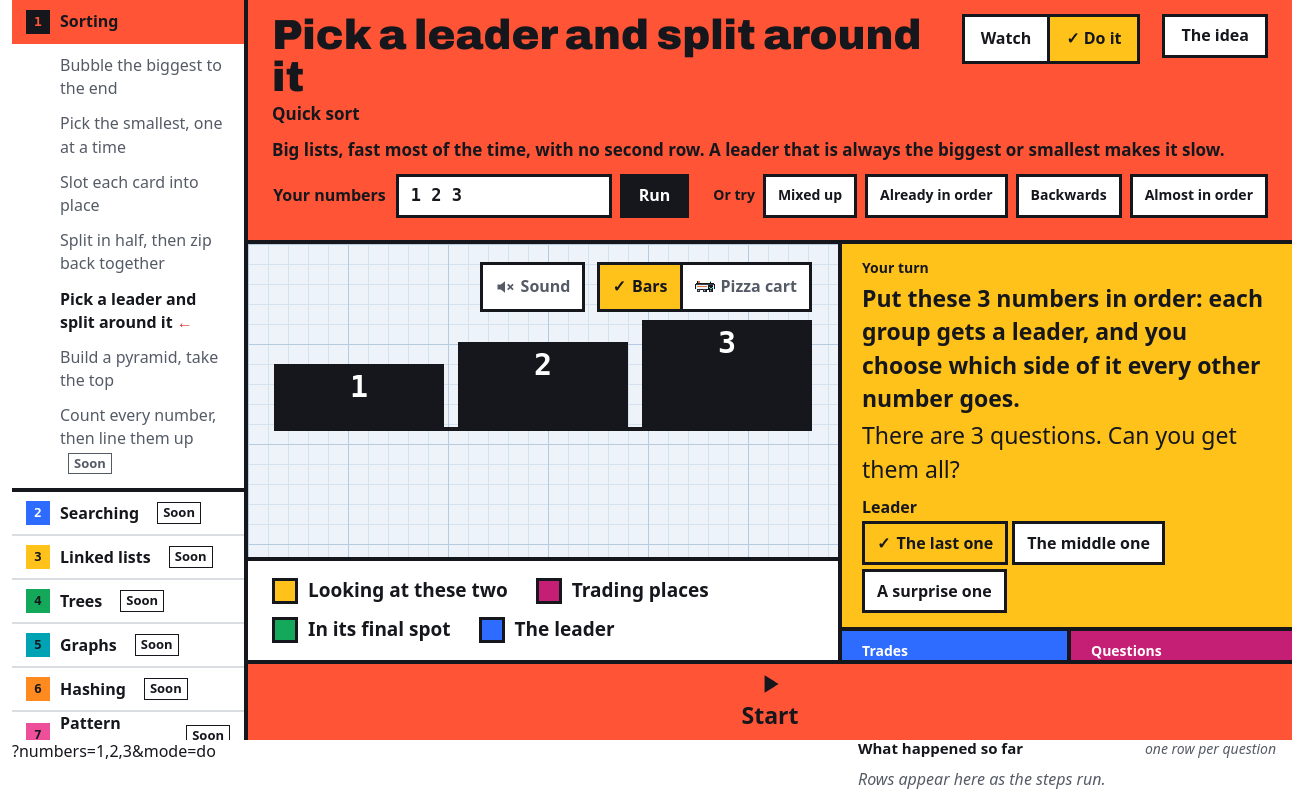
Test: quick sort: picking the leader › Do it: Start hides the choice; the finish compares the rules, never a grade
The width and height of the screenshot is (1304, 800).
Click the button "Start".
click(770, 702)  # box [248,664,1292,740]
Wait 4000 ms
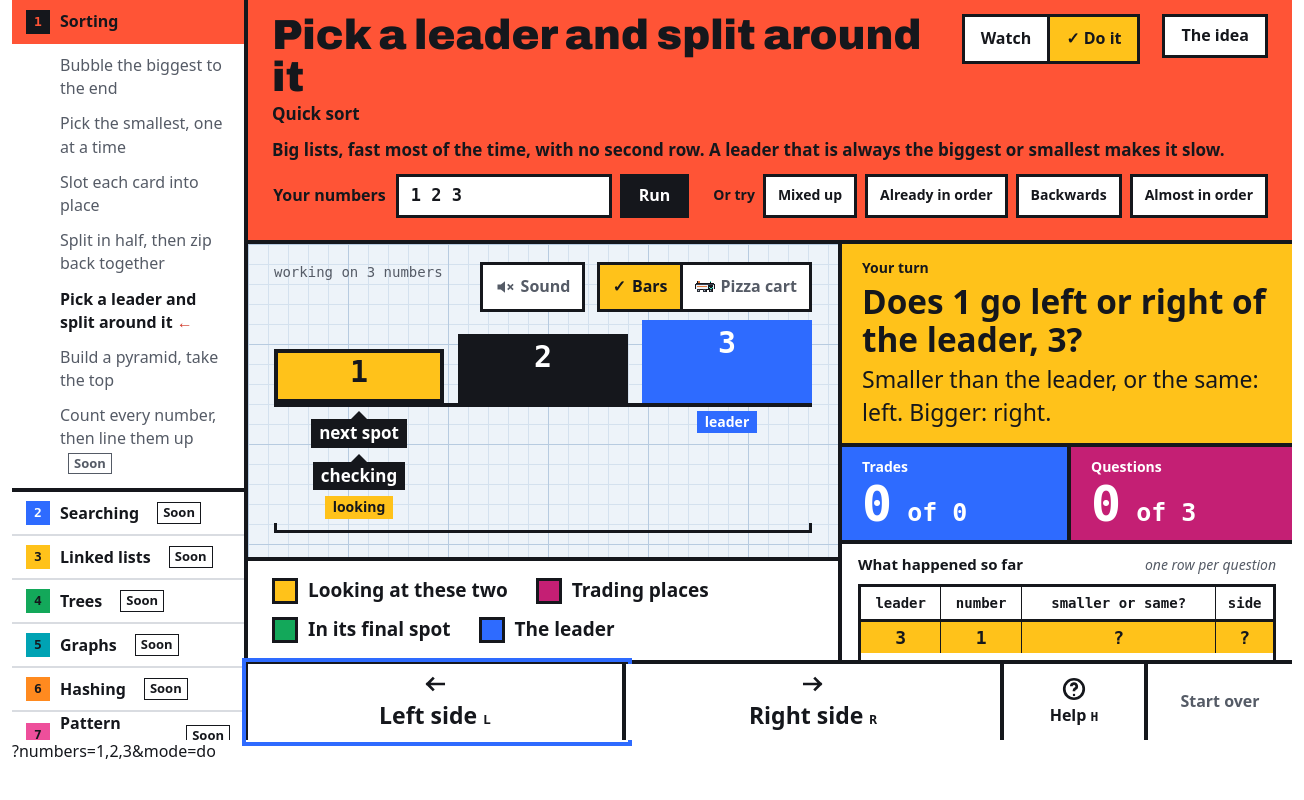
Type keys "l"
Wait 2000 ms
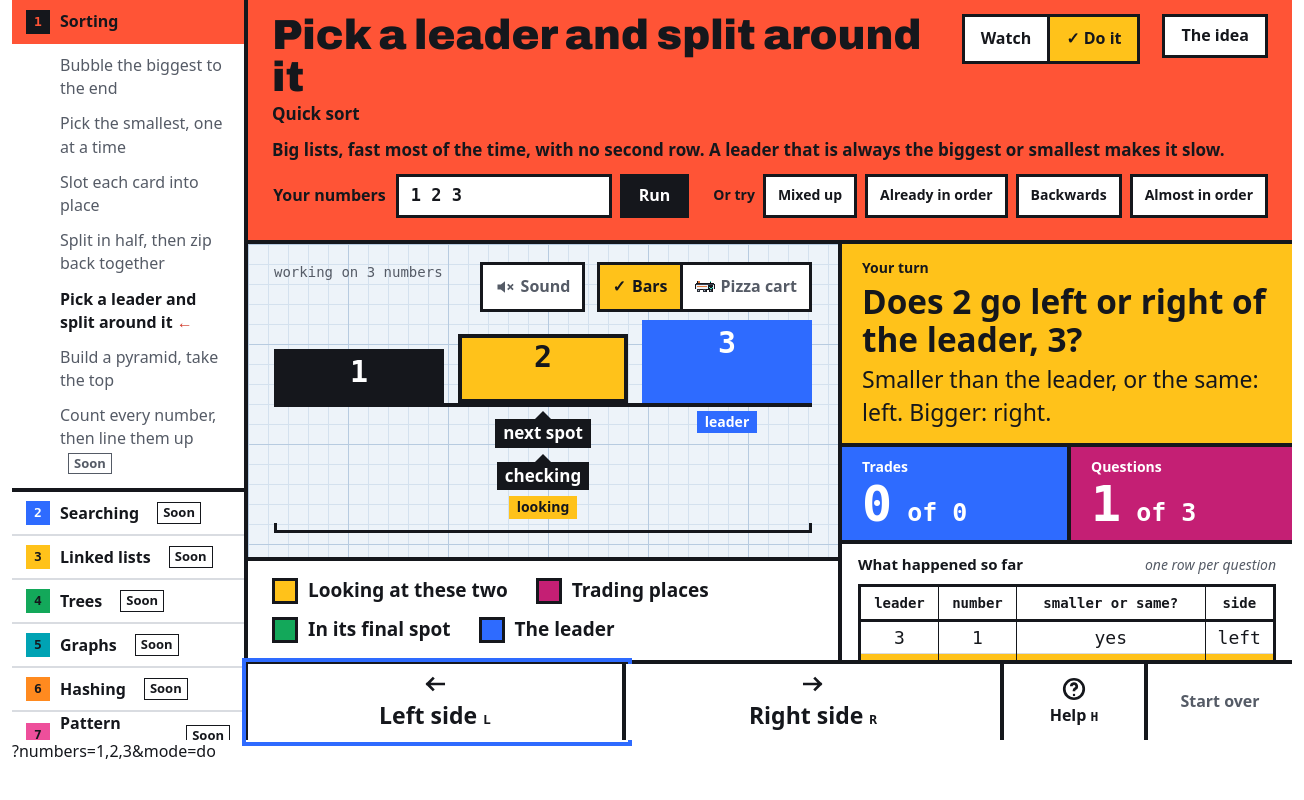
Type keys "l"
Wait 6000 ms
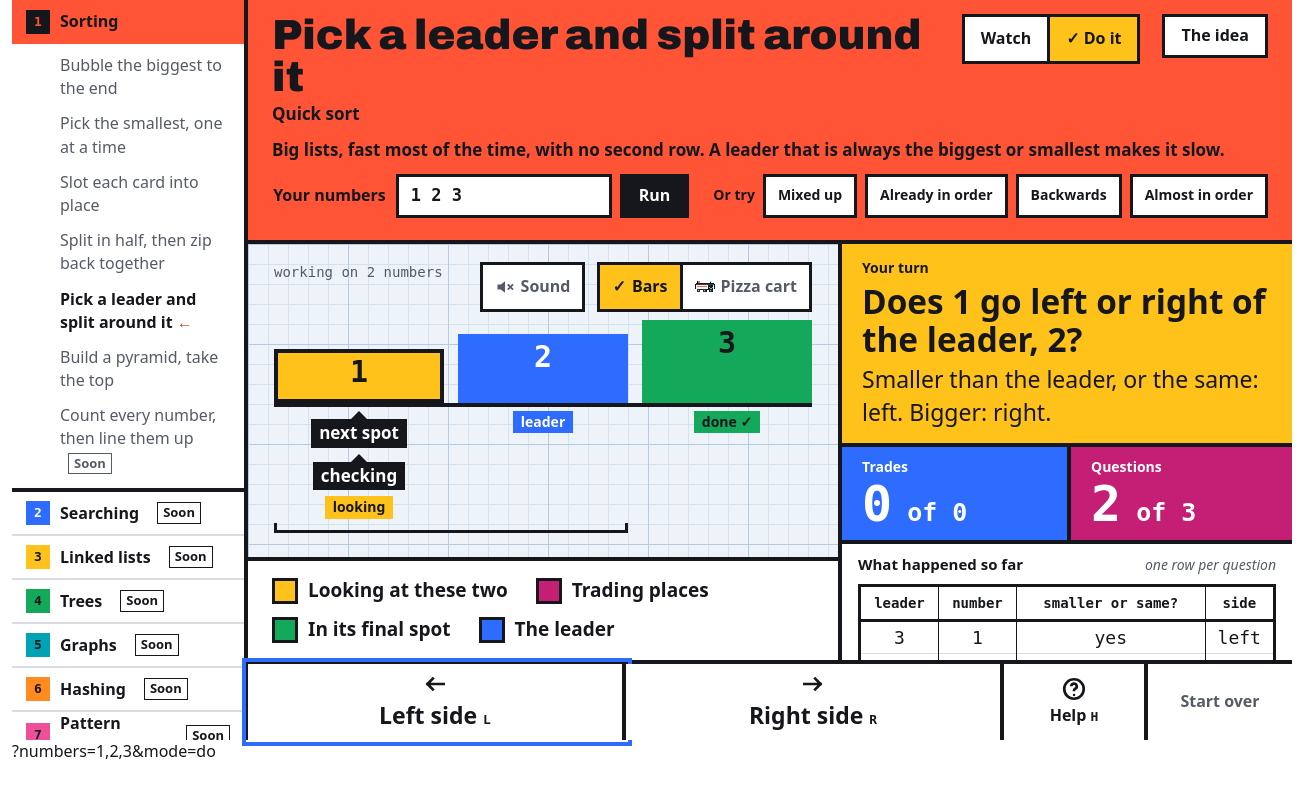
Type keys "l"
Wait 6000 ms
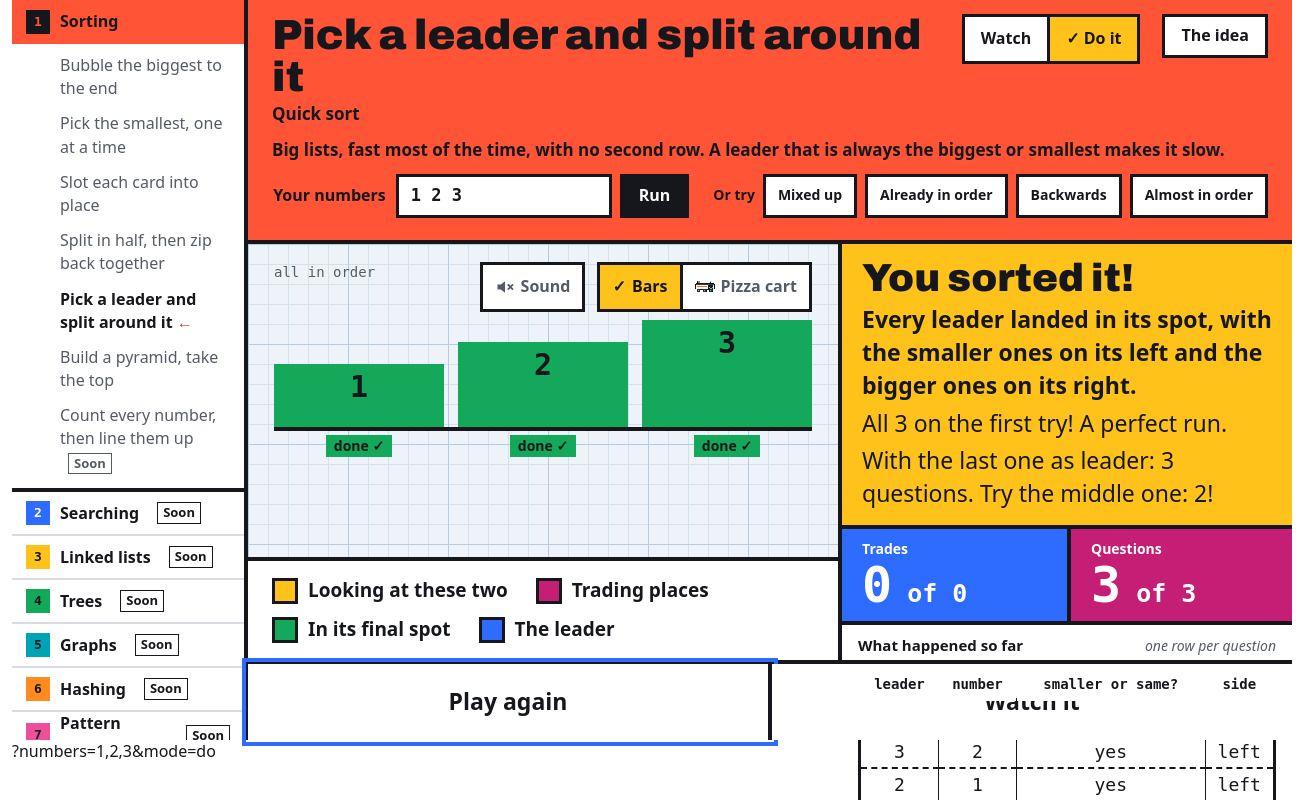
Result: the element with class "do-it-panel" shows "All 3 on the first try! A perfect run." at [862,407,1227,439]
Result: the element with class "do-it-panel" shows "With the last one as leader: 3 questions. Try the middle one: 2!" at [862,444,1213,509]
